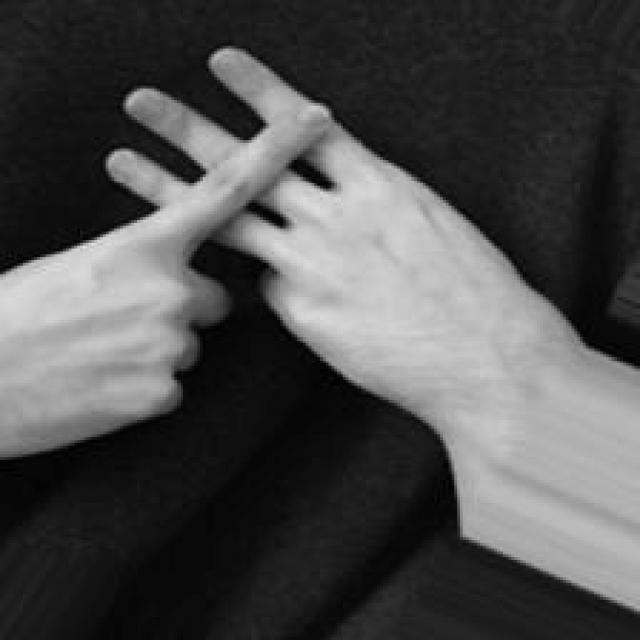E: (1, 38, 438, 460)
